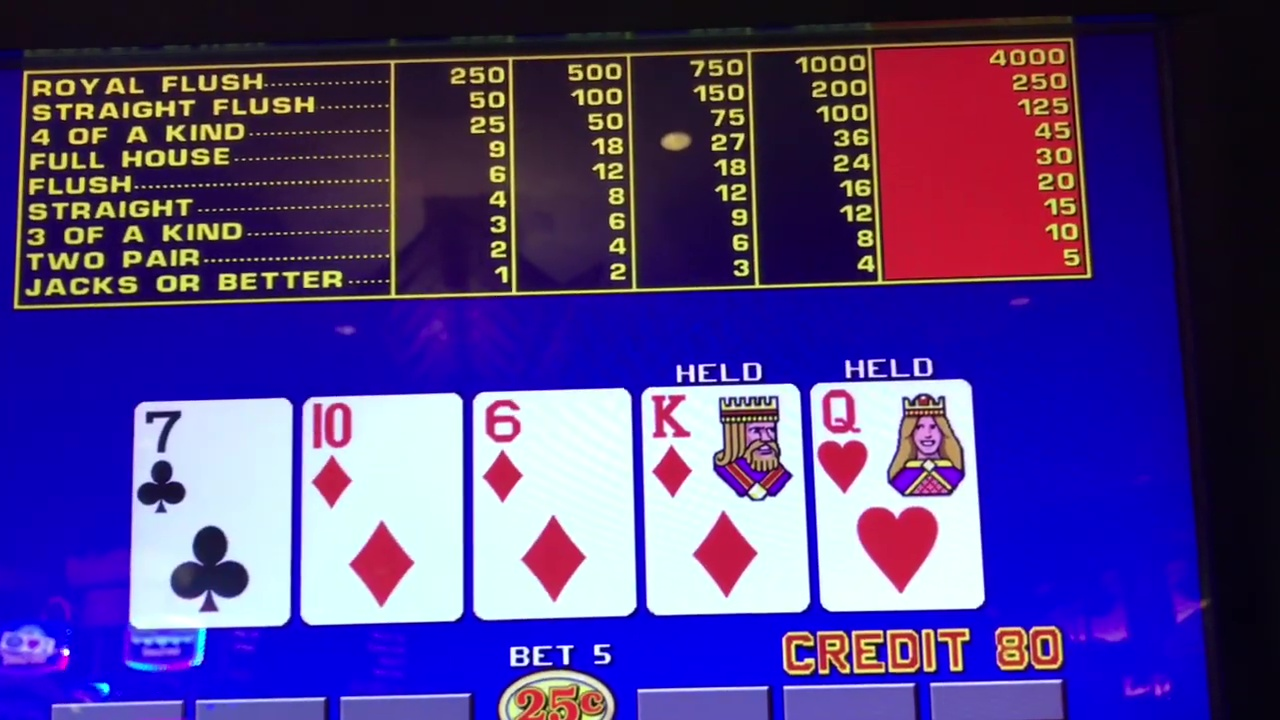C7: (136, 406, 288, 628)
D6: (477, 397, 631, 614)
DK: (646, 386, 800, 610)
DT: (306, 399, 458, 621)
HQ: (819, 386, 969, 607)
